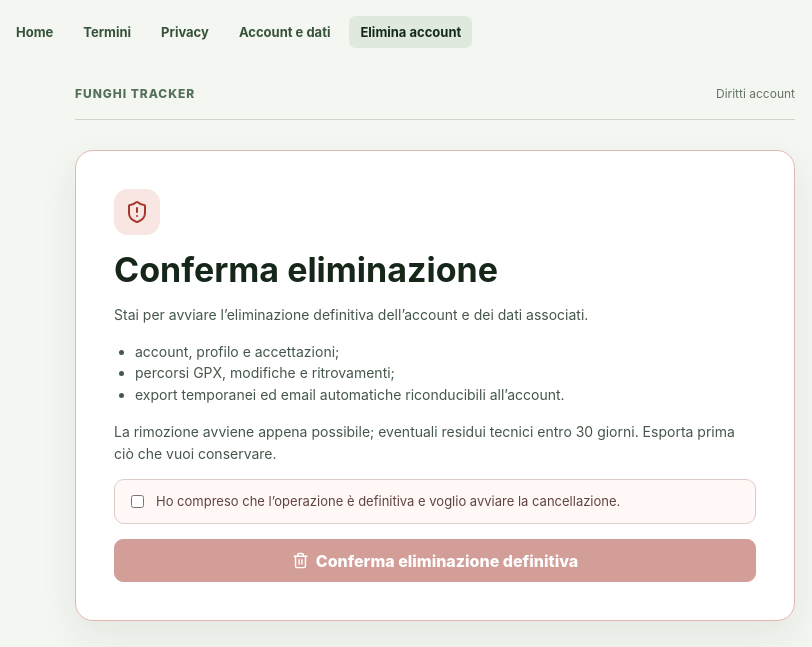
Test case: AccountDeletionPage › richiede un click esplicito, conferma una sola volta e chiude la sessione locale
Click the checkbox: {"x": 138, "y": 502} [131,495,144,508]
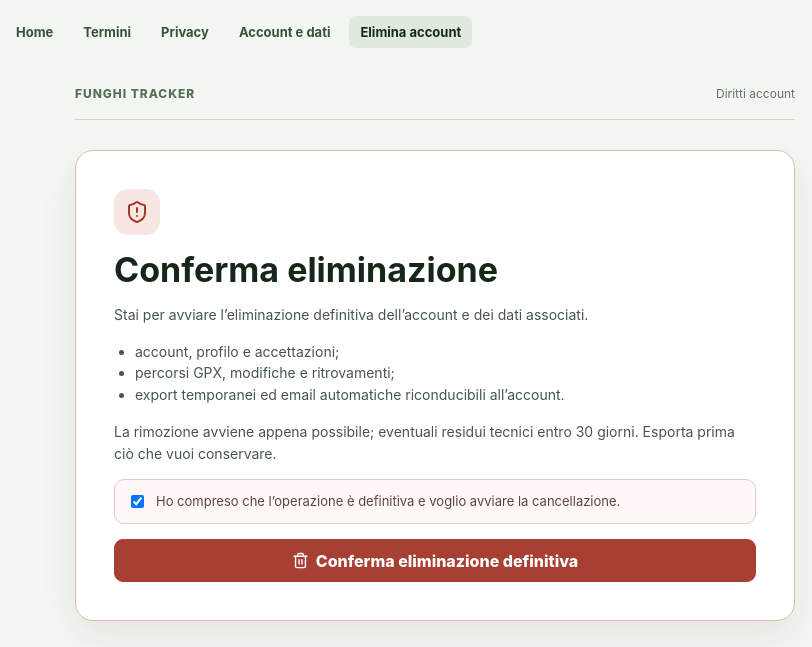
Click the button "Conferma eliminazione definitiva": {"x": 435, "y": 561} [114,539,756,582]
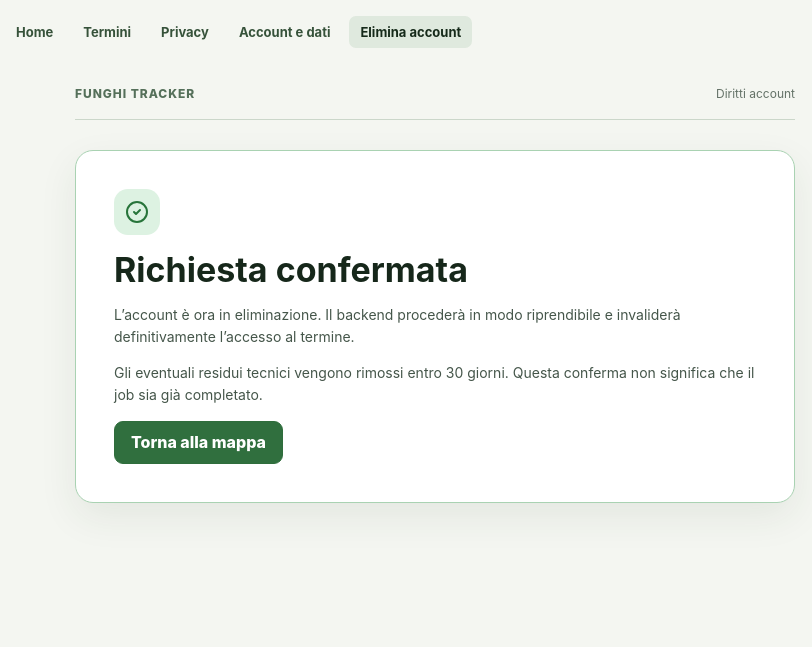
Now the heading "Richiesta confermata" is shown, box [114,249,468,290]
